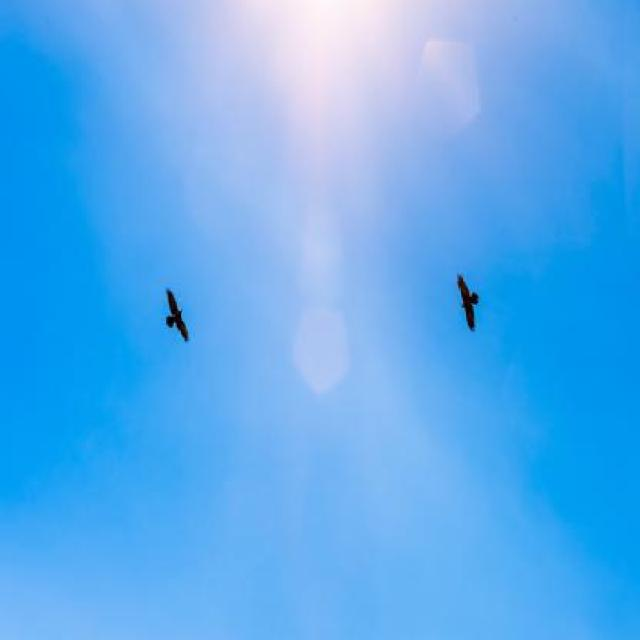bird: (455, 272, 480, 332), (165, 287, 190, 344)
